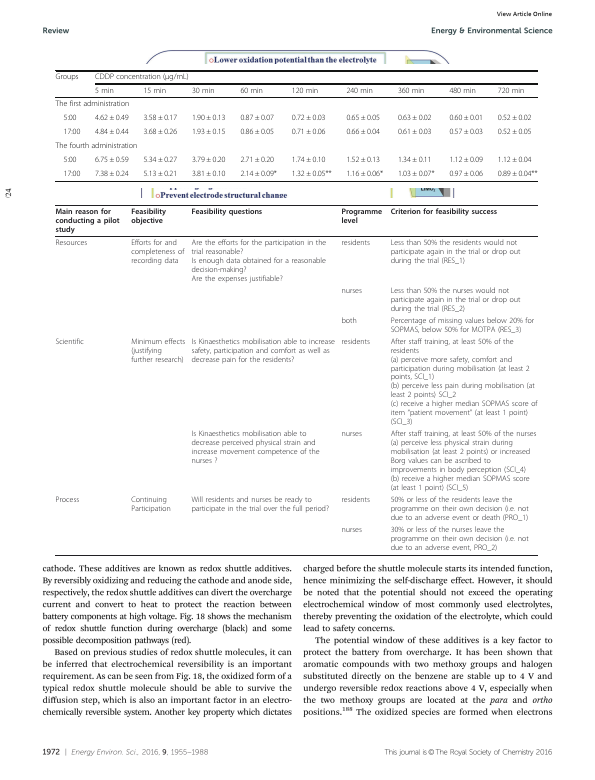borderless: (54, 203, 538, 555), (54, 69, 538, 181)
cell: (390, 337, 538, 427), (390, 429, 537, 493), (190, 238, 327, 283), (190, 429, 320, 466), (190, 337, 336, 364), (390, 495, 530, 523), (390, 525, 530, 553), (390, 238, 521, 266), (390, 286, 521, 313), (190, 495, 330, 514), (390, 316, 535, 334), (55, 207, 120, 234), (130, 238, 185, 266), (130, 337, 186, 364), (390, 207, 498, 216), (94, 73, 190, 82), (55, 141, 138, 151), (130, 495, 172, 514), (340, 207, 383, 225), (55, 99, 130, 109), (130, 207, 167, 225), (190, 207, 263, 216), (291, 169, 332, 179), (497, 169, 538, 179), (239, 169, 278, 179), (345, 169, 384, 179), (397, 169, 435, 179), (94, 113, 130, 123), (142, 113, 178, 123), (239, 113, 275, 123), (345, 113, 381, 123), (448, 113, 484, 123), (94, 127, 130, 137), (142, 127, 178, 137), (239, 127, 275, 137), (345, 127, 381, 137), (448, 127, 484, 137), (94, 155, 130, 165), (142, 155, 178, 165), (239, 155, 275, 165), (345, 155, 381, 165), (448, 155, 484, 165), (94, 169, 130, 179), (142, 169, 178, 179), (448, 169, 484, 179), (191, 113, 226, 123), (291, 113, 326, 123), (397, 113, 432, 123), (497, 113, 532, 123), (191, 127, 226, 137), (291, 127, 326, 137), (397, 127, 432, 137), (497, 127, 532, 137), (191, 155, 226, 165), (291, 155, 326, 165), (397, 155, 432, 165), (497, 155, 532, 165), (191, 169, 226, 179), (55, 238, 88, 248), (340, 238, 371, 248), (340, 495, 371, 505), (54, 337, 85, 346), (340, 337, 371, 346), (345, 86, 374, 95), (448, 86, 477, 95), (54, 495, 80, 505), (291, 86, 319, 95), (397, 86, 425, 95), (497, 86, 525, 95), (340, 429, 363, 439), (340, 525, 363, 535), (142, 86, 167, 95), (239, 86, 264, 95), (55, 73, 79, 82), (191, 86, 215, 95), (340, 286, 363, 295), (62, 127, 81, 137), (62, 169, 81, 179), (94, 86, 115, 95), (340, 316, 358, 325), (62, 113, 77, 123), (62, 155, 77, 165)
